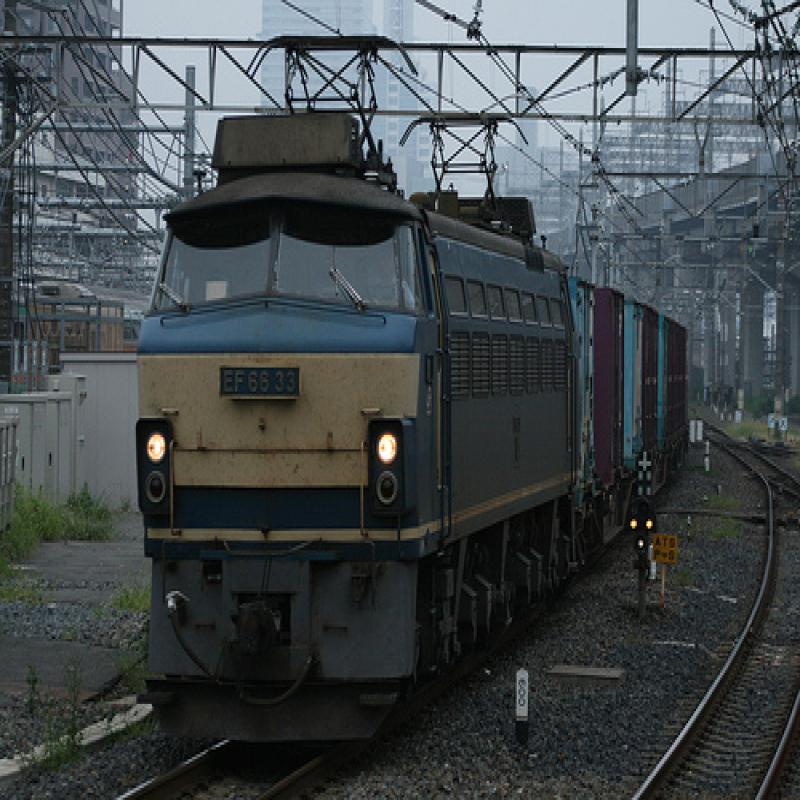train: (135, 37, 694, 741)
